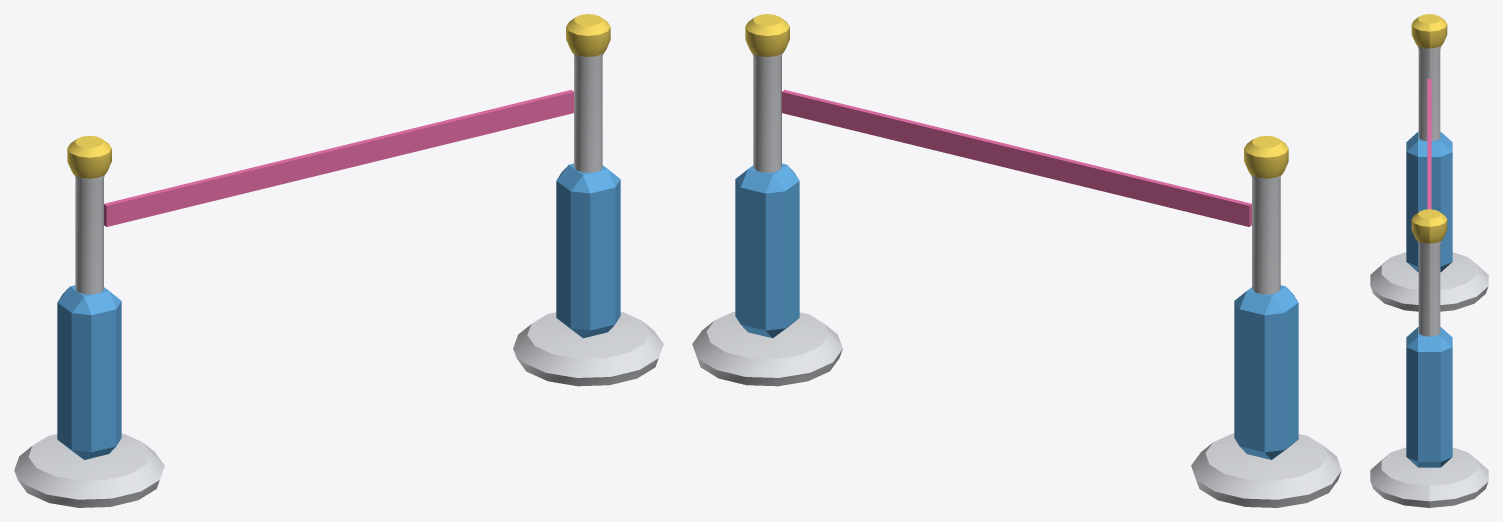
File: trampoline-park-and-soft-play-queue-rail-bfc190c2__34641.glb
3 renders of one model, left to right at view 1: azimuth 30°, elevation 25°; view 2: azimuth 150°, elevation 25°; view 3: azimuth 270°, elevation 25°, orthographic. The views are drawn at different scales.
Parts seen in each view (by area): view 1: queue-rail; view 2: queue-rail; view 3: queue-rail.
Part boxes in pixels (x1=…): queue-rail: x1=14, y1=14, x2=663, y2=507; queue-rail: x1=692, y1=14, x2=1341, y2=507; queue-rail: x1=1370, y1=14, x2=1488, y2=507.
Size of the model in its own units: 2.02 by 1.03 by 0.4093.
